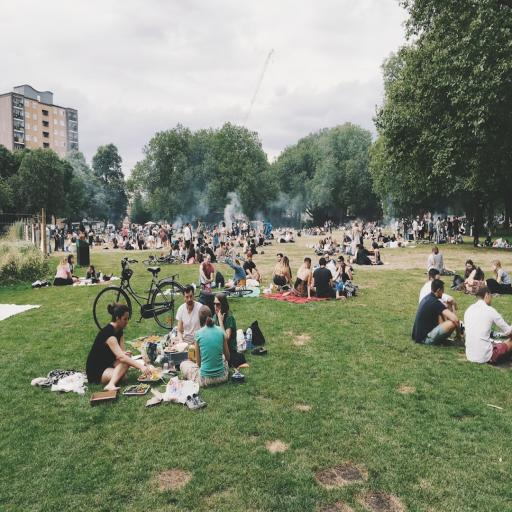face: (119, 312, 129, 329), (184, 291, 194, 306), (214, 299, 221, 312)
